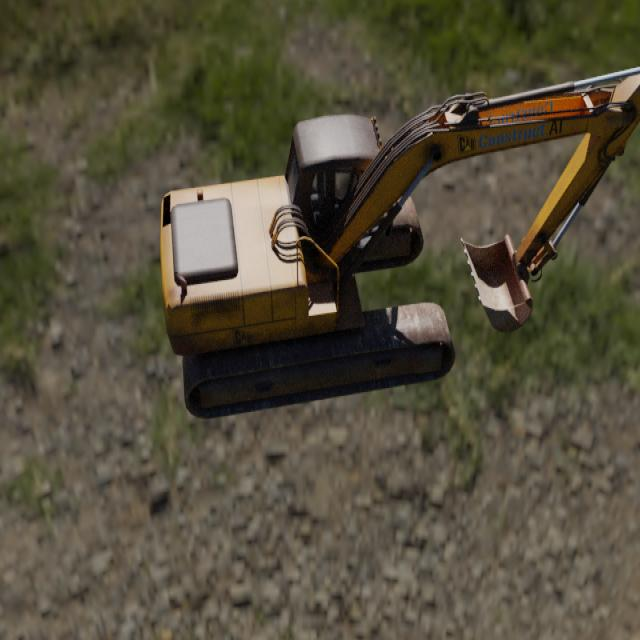excavator: (159, 65, 640, 420)
